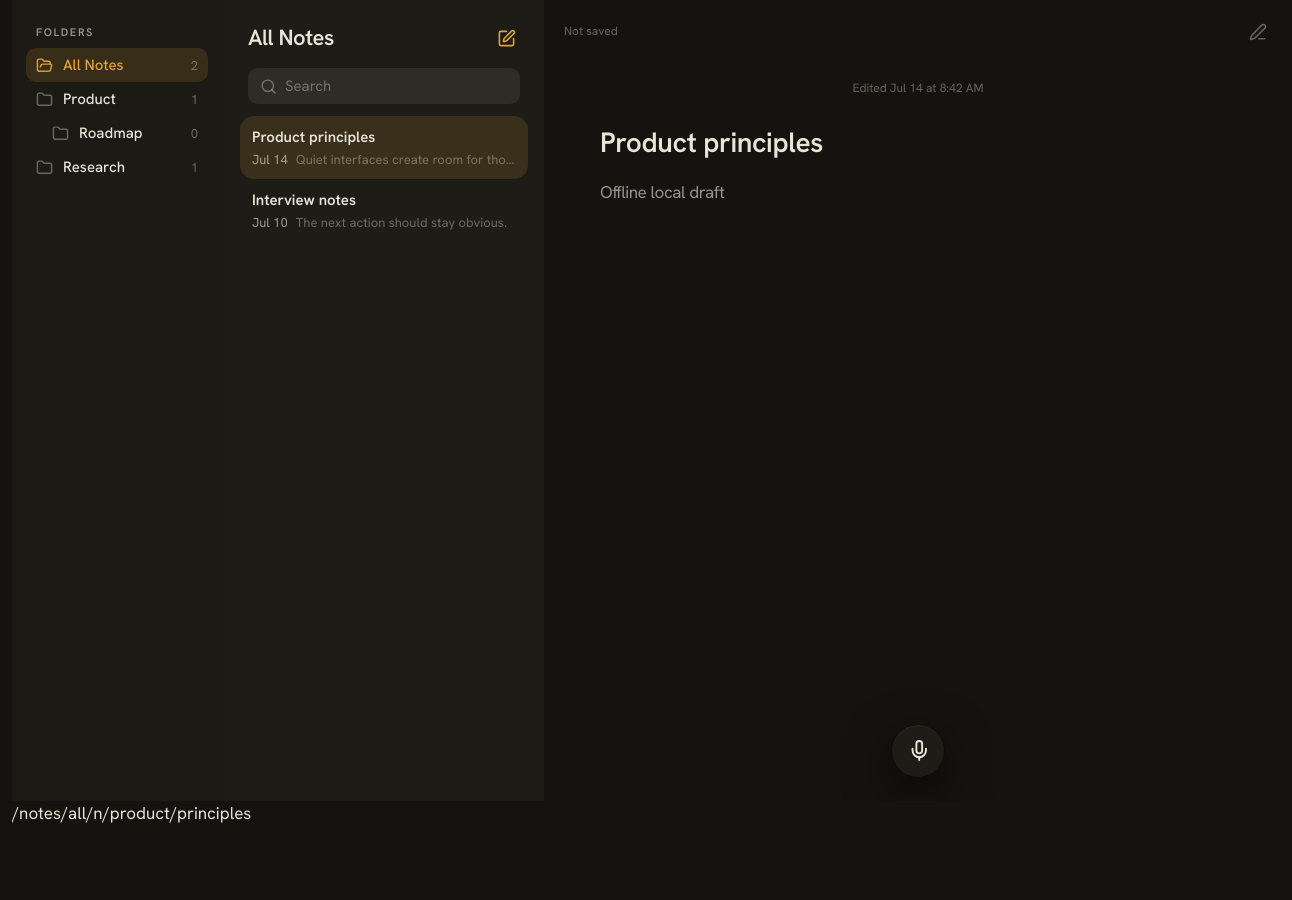
Test: Notes page › autosaves a restored stale draft against its persisted base revision
Click the button named "Edit note" at (1258, 32), box [1240, 14, 1276, 50]
Wait 500 ms
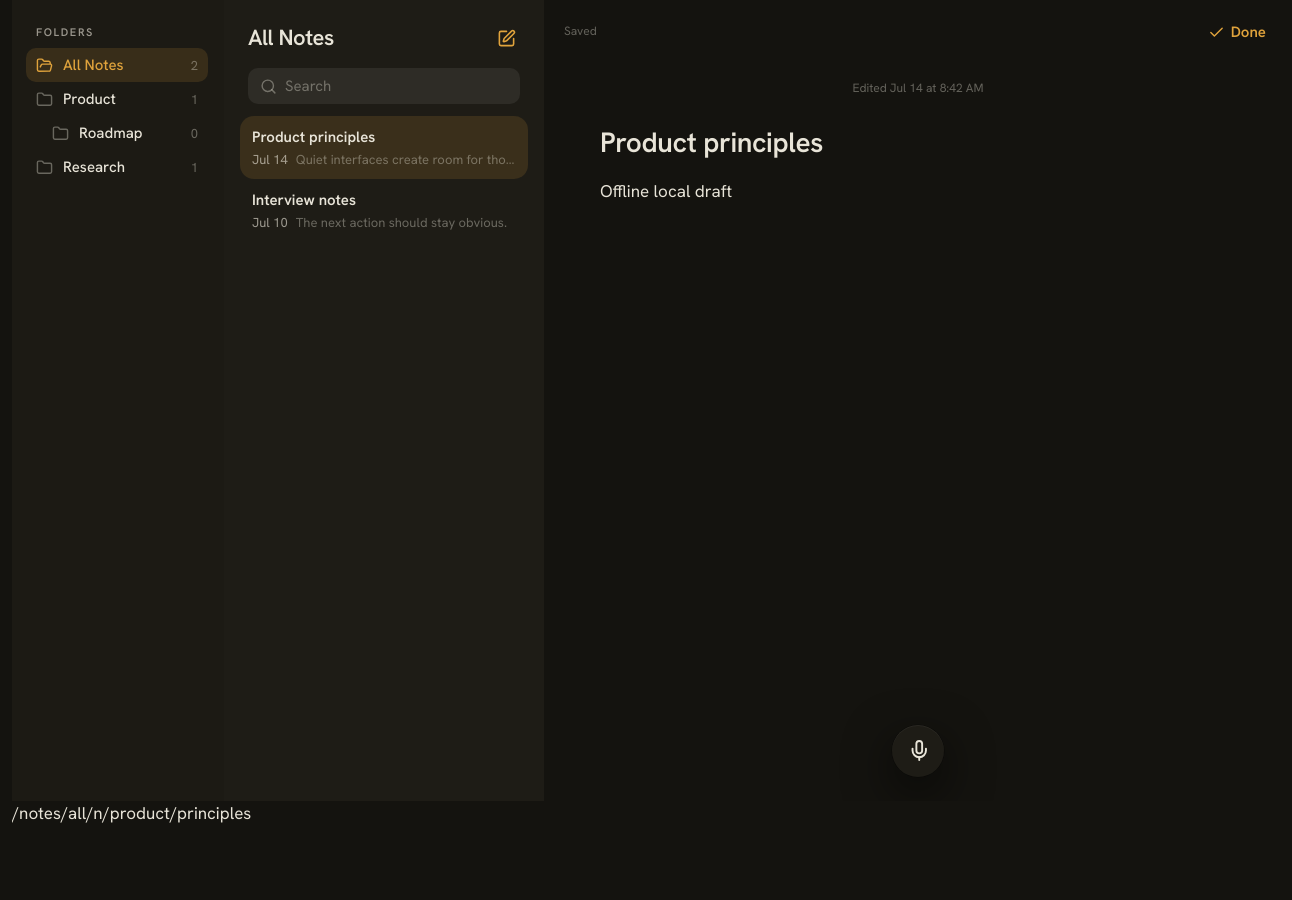
Result: the text box named "Note body" holds "Offline local draft" at [600, 178, 1236, 673]
